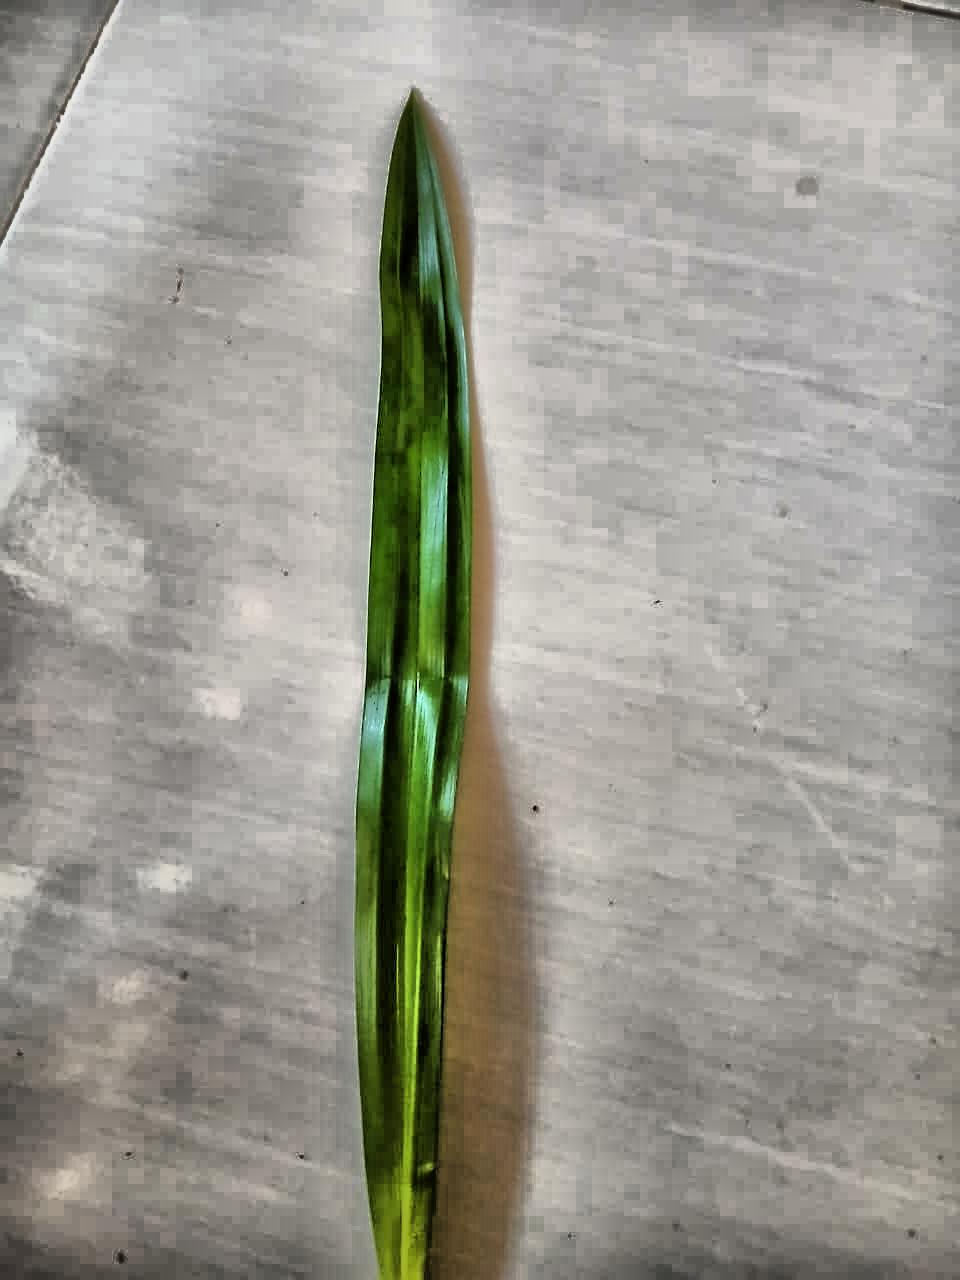daun pandan: (356, 93, 472, 1279)
